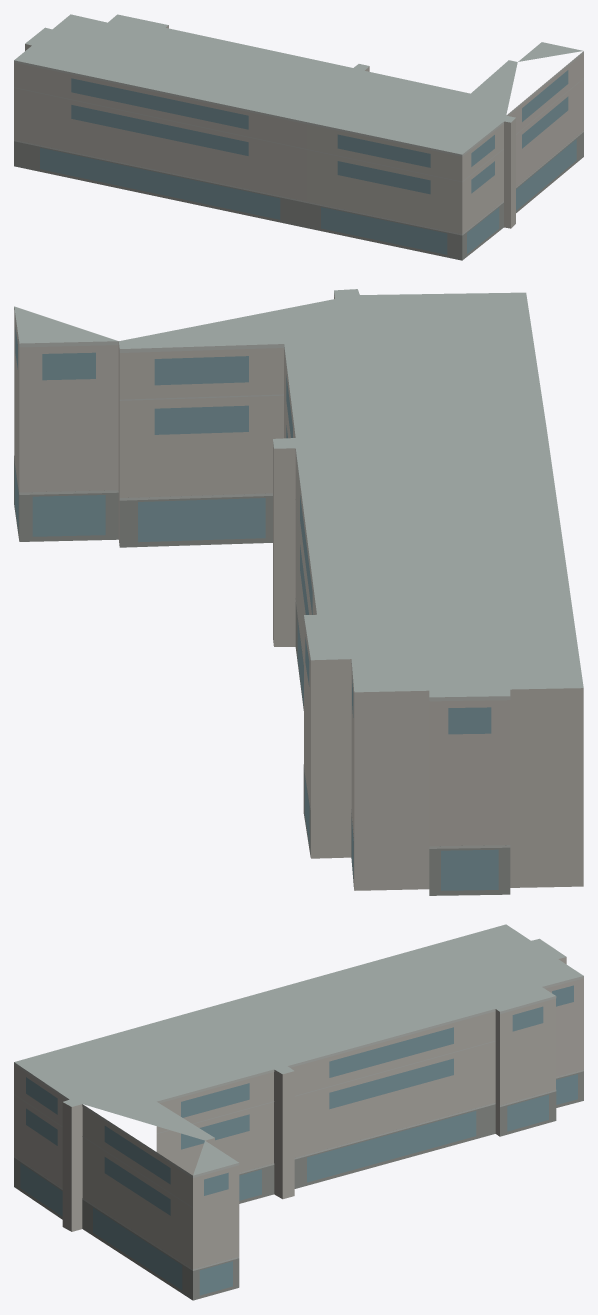
File: survey-upis-32469863.glb
3 views of the same model, one above another, from view 1: azimuth 30°, elevation 25°; view 2: azimuth 150°, elevation 25°; view 3: azimuth 270°, elevation 25° (orthographic). The views are drawn at different scales.
Parts seen in each view (by area): view 1: survey-upis-32469863.tmp; view 2: survey-upis-32469863.tmp; view 3: survey-upis-32469863.tmp.
Part boxes in pixels (x1,y1,x2,y2): survey-upis-32469863.tmp: (14,14,583,260); survey-upis-32469863.tmp: (14,289,583,895); survey-upis-32469863.tmp: (14,924,583,1300).
Bounding box in the file's own units: 52.66 × 12.2 × 50.44.
